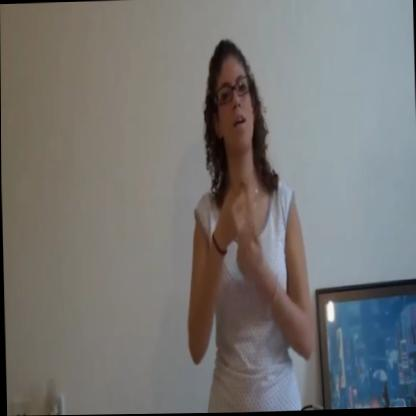HowAreYou: (217, 170, 276, 277)
